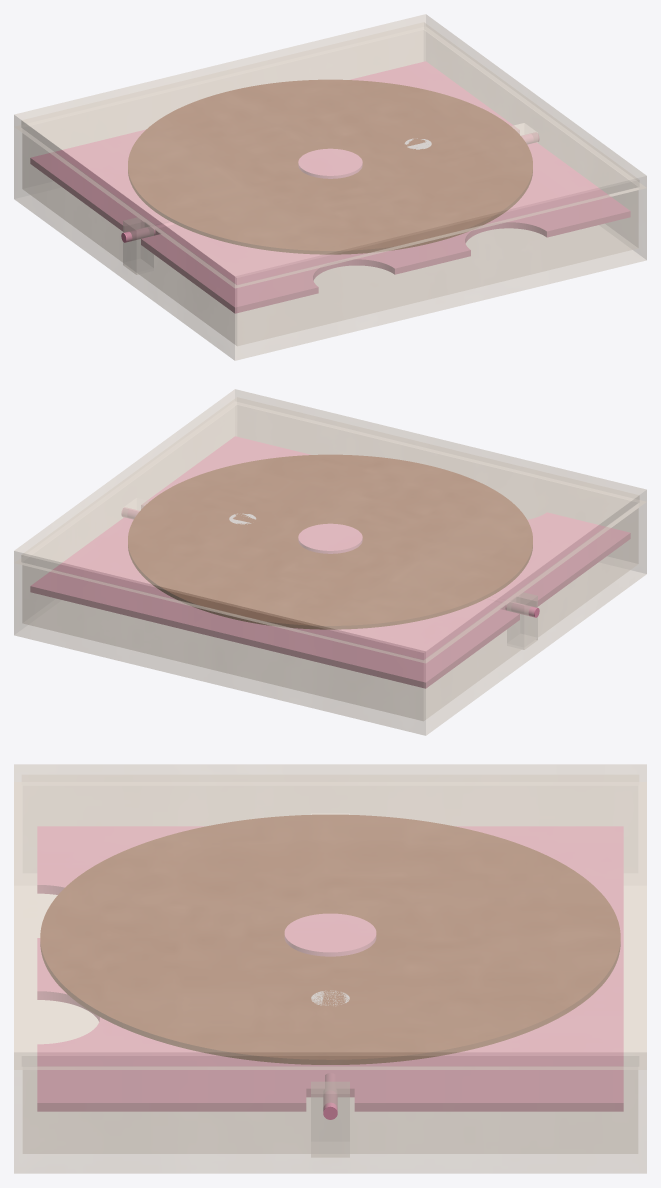
The model's file is Music_CD_case__0014.glb.
3 renders of one model, top to bottom at view 1: azimuth 30°, elevation 25°; view 2: azimuth 150°, elevation 25°; view 3: azimuth 270°, elevation 25°, orthographic. The views are drawn at different scales.
Parts seen in each view (by area): view 1: lid::lid_shell, base::base_frame, disc_0::disc_0_body, flip_tray::tray_panel, flip_tray::hub_face_0, base::pivot_post_1; view 2: lid::lid_shell, base::base_frame, disc_0::disc_0_body, flip_tray::tray_panel, flip_tray::hub_face_0, base::pivot_post_1; view 3: lid::lid_shell, disc_0::disc_0_body, base::base_frame, flip_tray::tray_panel, flip_tray::hub_face_0, base::pivot_post_0.
Boxes of the visible parts, x1=… form: lid::lid_shell: x1=14, y1=14, x2=646, y2=288; base::base_frame: x1=14, y1=30, x2=646, y2=360; disc_0::disc_0_body: x1=128, y1=79, x2=532, y2=254; flip_tray::tray_panel: x1=30, y1=61, x2=630, y2=313; flip_tray::hub_face_0: x1=298, y1=149, x2=362, y2=178; base::pivot_post_1: x1=123, y1=217, x2=153, y2=274; lid::lid_shell: x1=14, y1=389, x2=646, y2=663; base::base_frame: x1=14, y1=405, x2=646, y2=735; disc_0::disc_0_body: x1=128, y1=454, x2=532, y2=629; flip_tray::tray_panel: x1=30, y1=436, x2=630, y2=688; flip_tray::hub_face_0: x1=298, y1=524, x2=362, y2=553; base::pivot_post_1: x1=507, y1=592, x2=537, y2=649; lid::lid_shell: x1=14, y1=764, x2=646, y2=1069; disc_0::disc_0_body: x1=40, y1=815, x2=620, y2=1064; base::base_frame: x1=14, y1=782, x2=646, y2=1173; flip_tray::tray_panel: x1=37, y1=826, x2=623, y2=1119; flip_tray::hub_face_0: x1=284, y1=914, x2=376, y2=956; base::pivot_post_0: x1=311, y1=1082, x2=349, y2=1157.
Bounding box in the file's own units: 0.1412 × 0.0276 × 0.1309.
4 materials, 2 textured.
